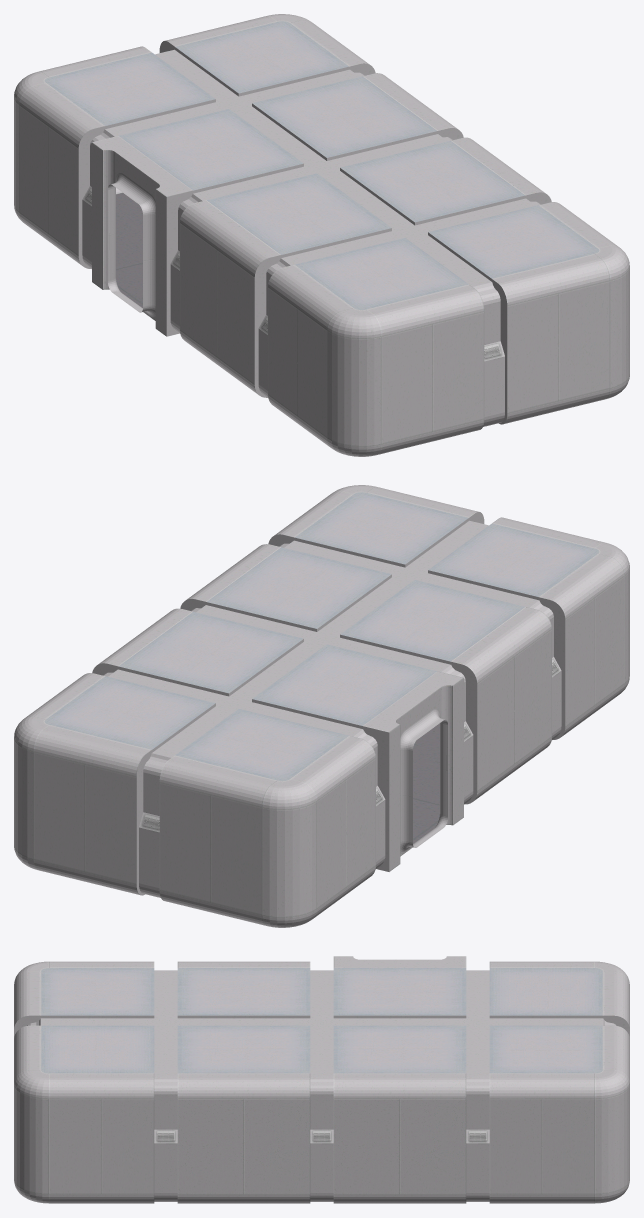
Rendered from thm_spc_corvette_dungeon_r64_officerquarters64_mesh_r64.fbx.
3 views of the same model, one above another, from view 1: azimuth 30°, elevation 25°; view 2: azimuth 150°, elevation 25°; view 3: azimuth 270°, elevation 25° (orthographic). The views are drawn at different scales.
Parts seen in each view (by area): view 1: mesh_node; view 2: mesh_node; view 3: mesh_node.
Boxes of the visible parts, x1=… form: mesh_node: x1=14, y1=14, x2=629, y2=456; mesh_node: x1=14, y1=485, x2=629, y2=927; mesh_node: x1=14, y1=956, x2=629, y2=1203.
Bounding box in the file's own units: 7.9 × 3.5 × 15.8.
